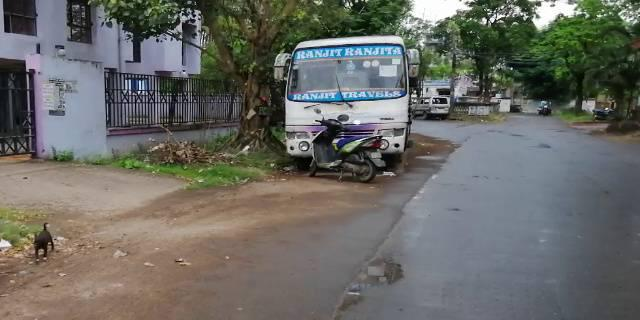Bus: (280, 34, 411, 173)
Motorbike: (306, 121, 386, 180)
